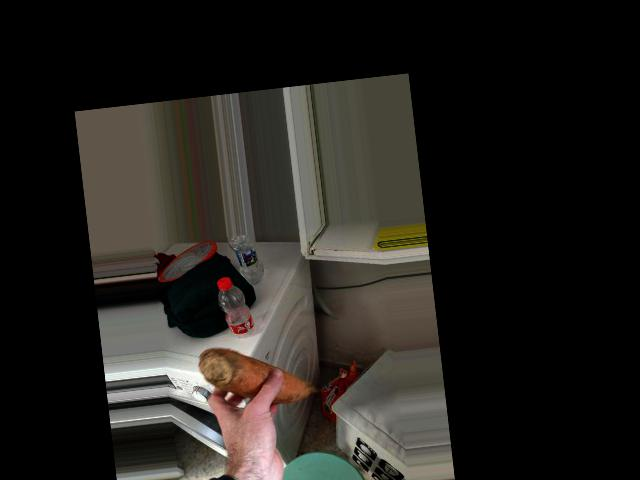sweet_potato: (203, 333, 309, 420)
